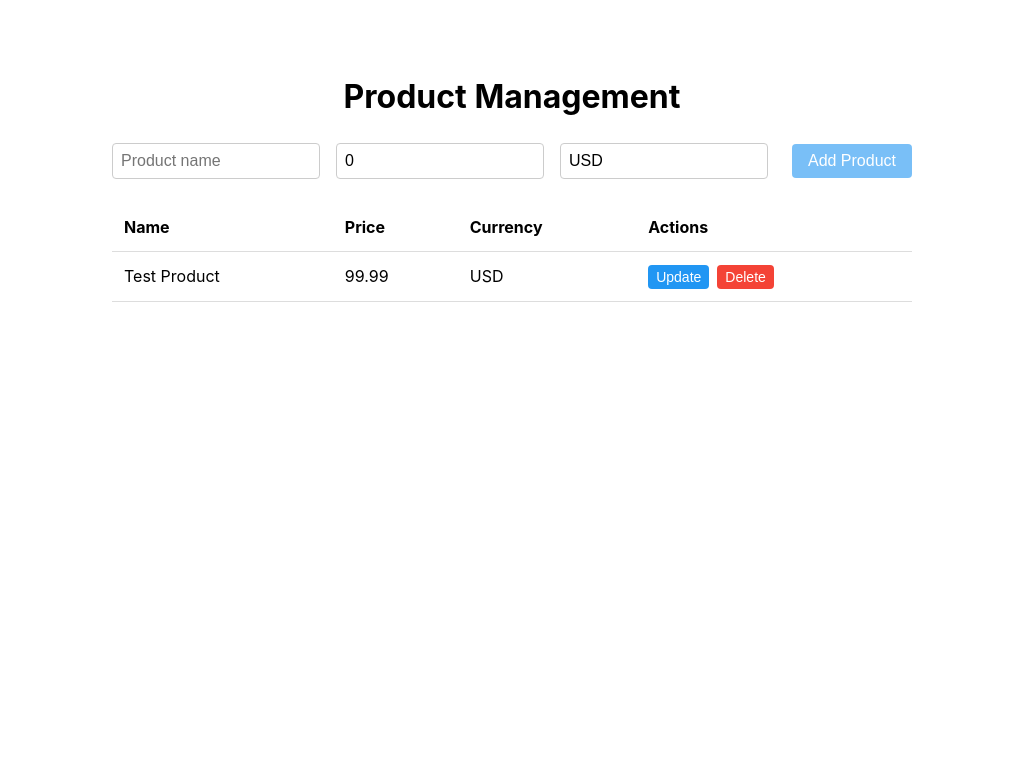
Test: App Component › allows deleting a product
Check: the text "Test Product" is shown, box [112,251,333,301]
Click the button "Delete" at (746,277), box [717,265,774,289]
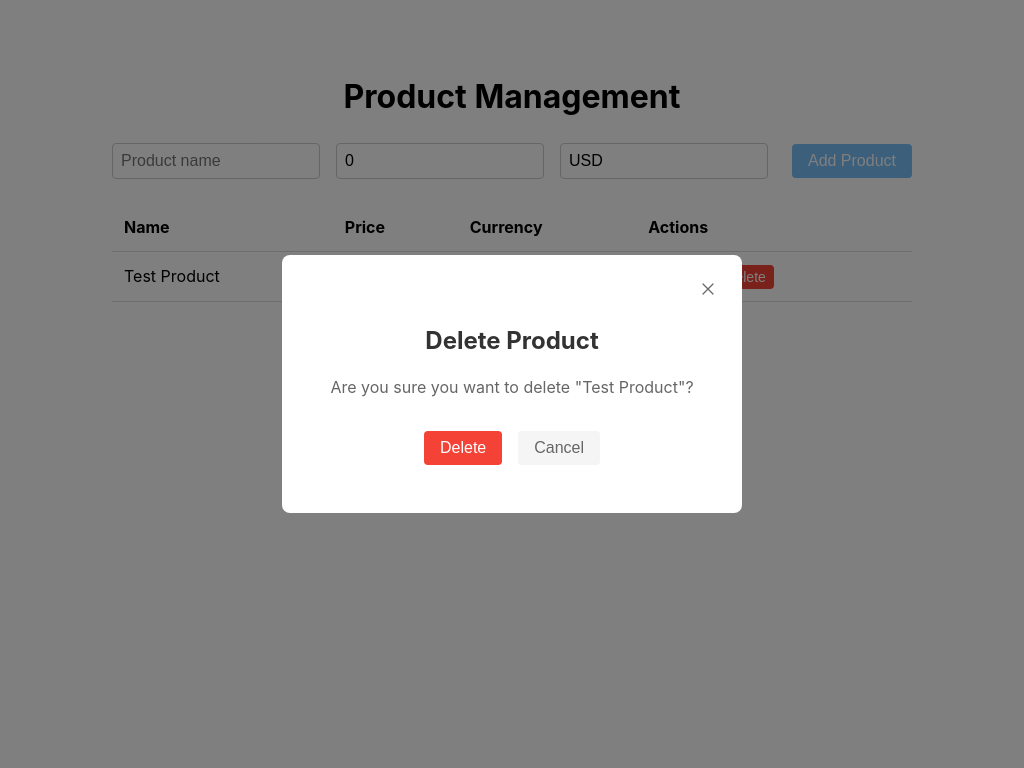
Click the button "Delete" at (463,448), box [424,431,502,465]
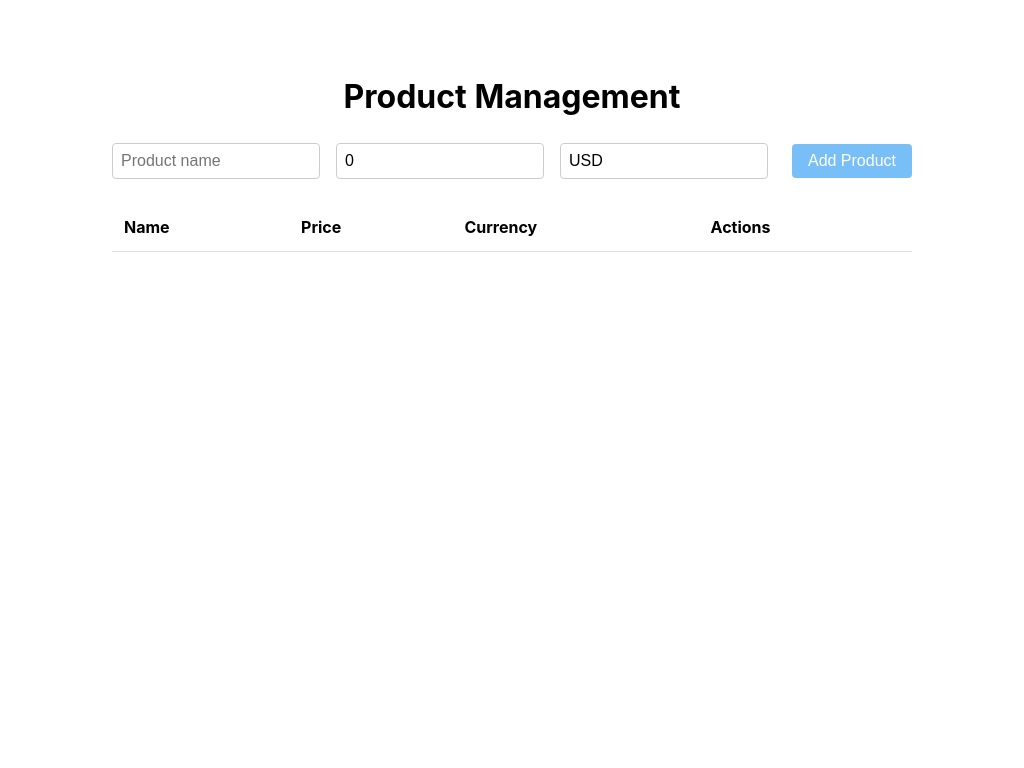
Check: the text "Test Product" is gone
